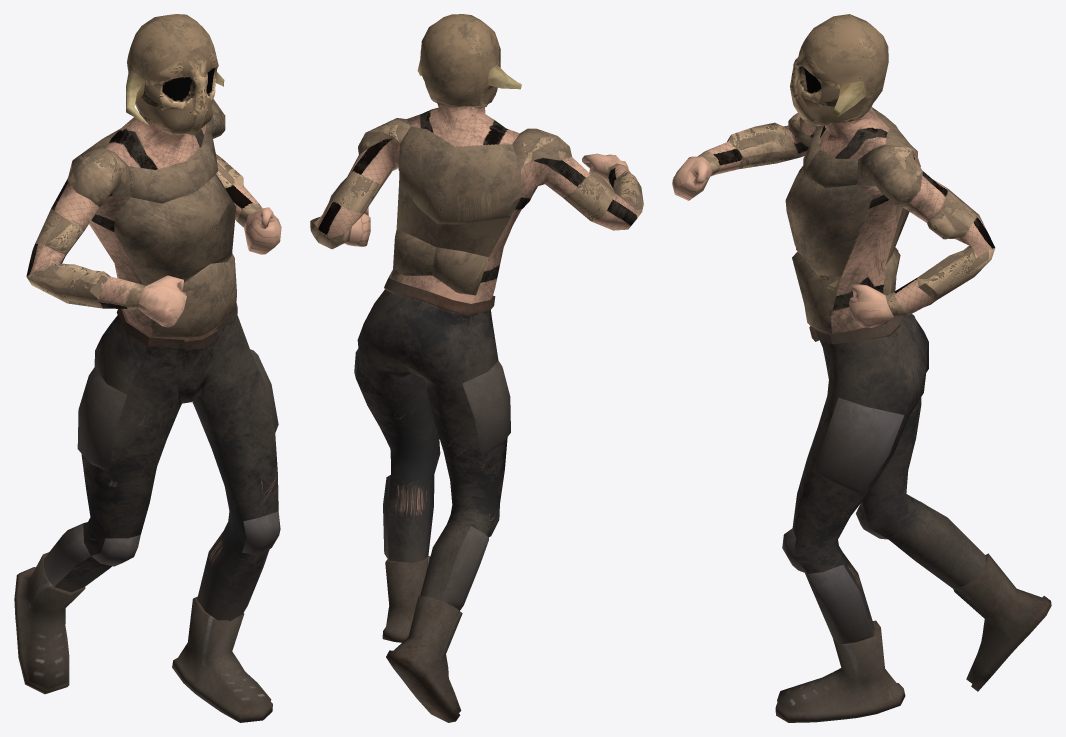
Rendered from Anim_ataque_d2_npc1.0025.obj.
3 renders of one model, left to right at view 1: azimuth 30°, elevation 25°; view 2: azimuth 150°, elevation 25°; view 3: azimuth 270°, elevation 25°, orthographic. The views are drawn at different scales.
Visible parts, largest first — view 1: NPC2; view 2: NPC2; view 3: NPC2.
Part boxes in pixels (x1,y1,x2,y2): NPC2: (14,14,281,722); NPC2: (310,14,643,722); NPC2: (672,14,1051,722).
Bounding box in the file's own units: 4.09 × 9.57 × 4.75.
